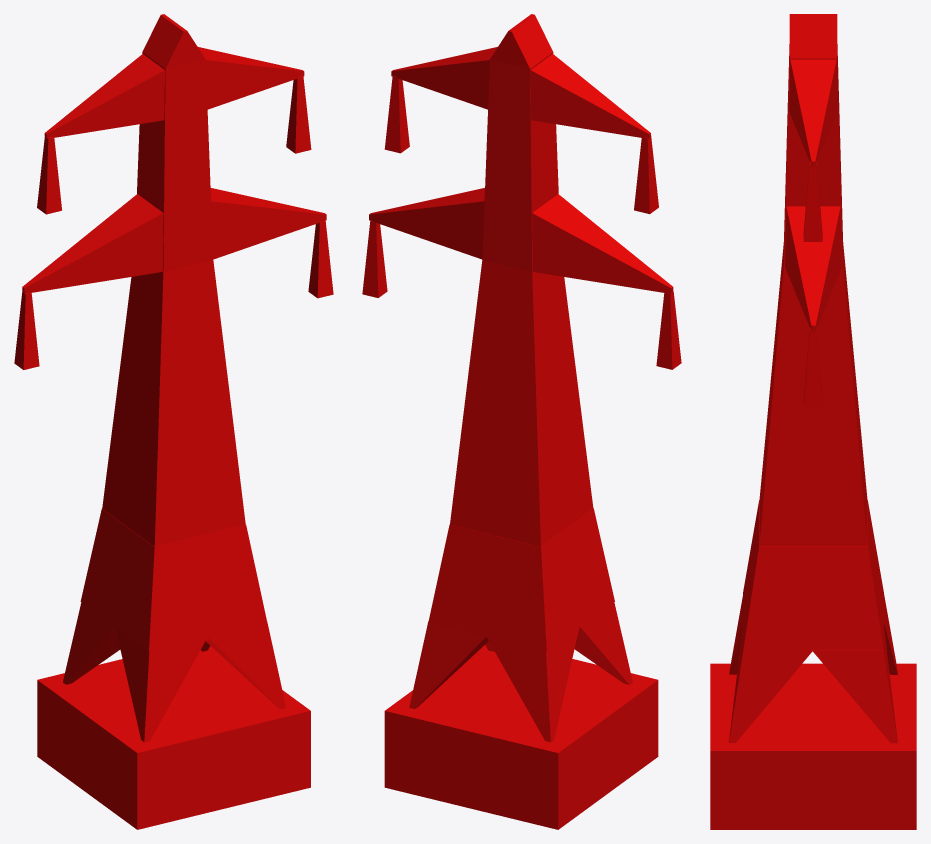
Rendered from SM_Bld_Pylon_01_Collision.fbx.
3 renders of one model, left to right at view 1: azimuth 30°, elevation 25°; view 2: azimuth 150°, elevation 25°; view 3: azimuth 270°, elevation 25°, orthographic. The views are drawn at different scales.
Parts seen in each view (by area): view 1: SM_Bld_Pylon_01_Collision; view 2: SM_Bld_Pylon_01_Collision; view 3: SM_Bld_Pylon_01_Collision.
Boxes of the visible parts, box(x1,y1,x2,y2) form: SM_Bld_Pylon_01_Collision: box(14, 14, 333, 829); SM_Bld_Pylon_01_Collision: box(362, 14, 681, 829); SM_Bld_Pylon_01_Collision: box(710, 14, 916, 829).
Bounding box in the file's own units: 1435 × 3313 × 803.
